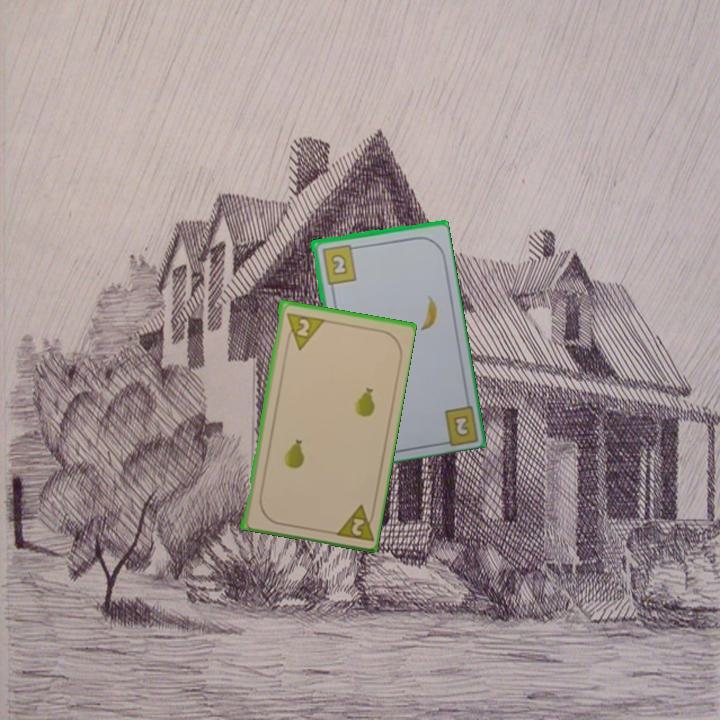2b: (318, 241, 360, 287), (452, 414, 470, 437)
2p: (330, 500, 378, 544), (282, 309, 325, 352)
